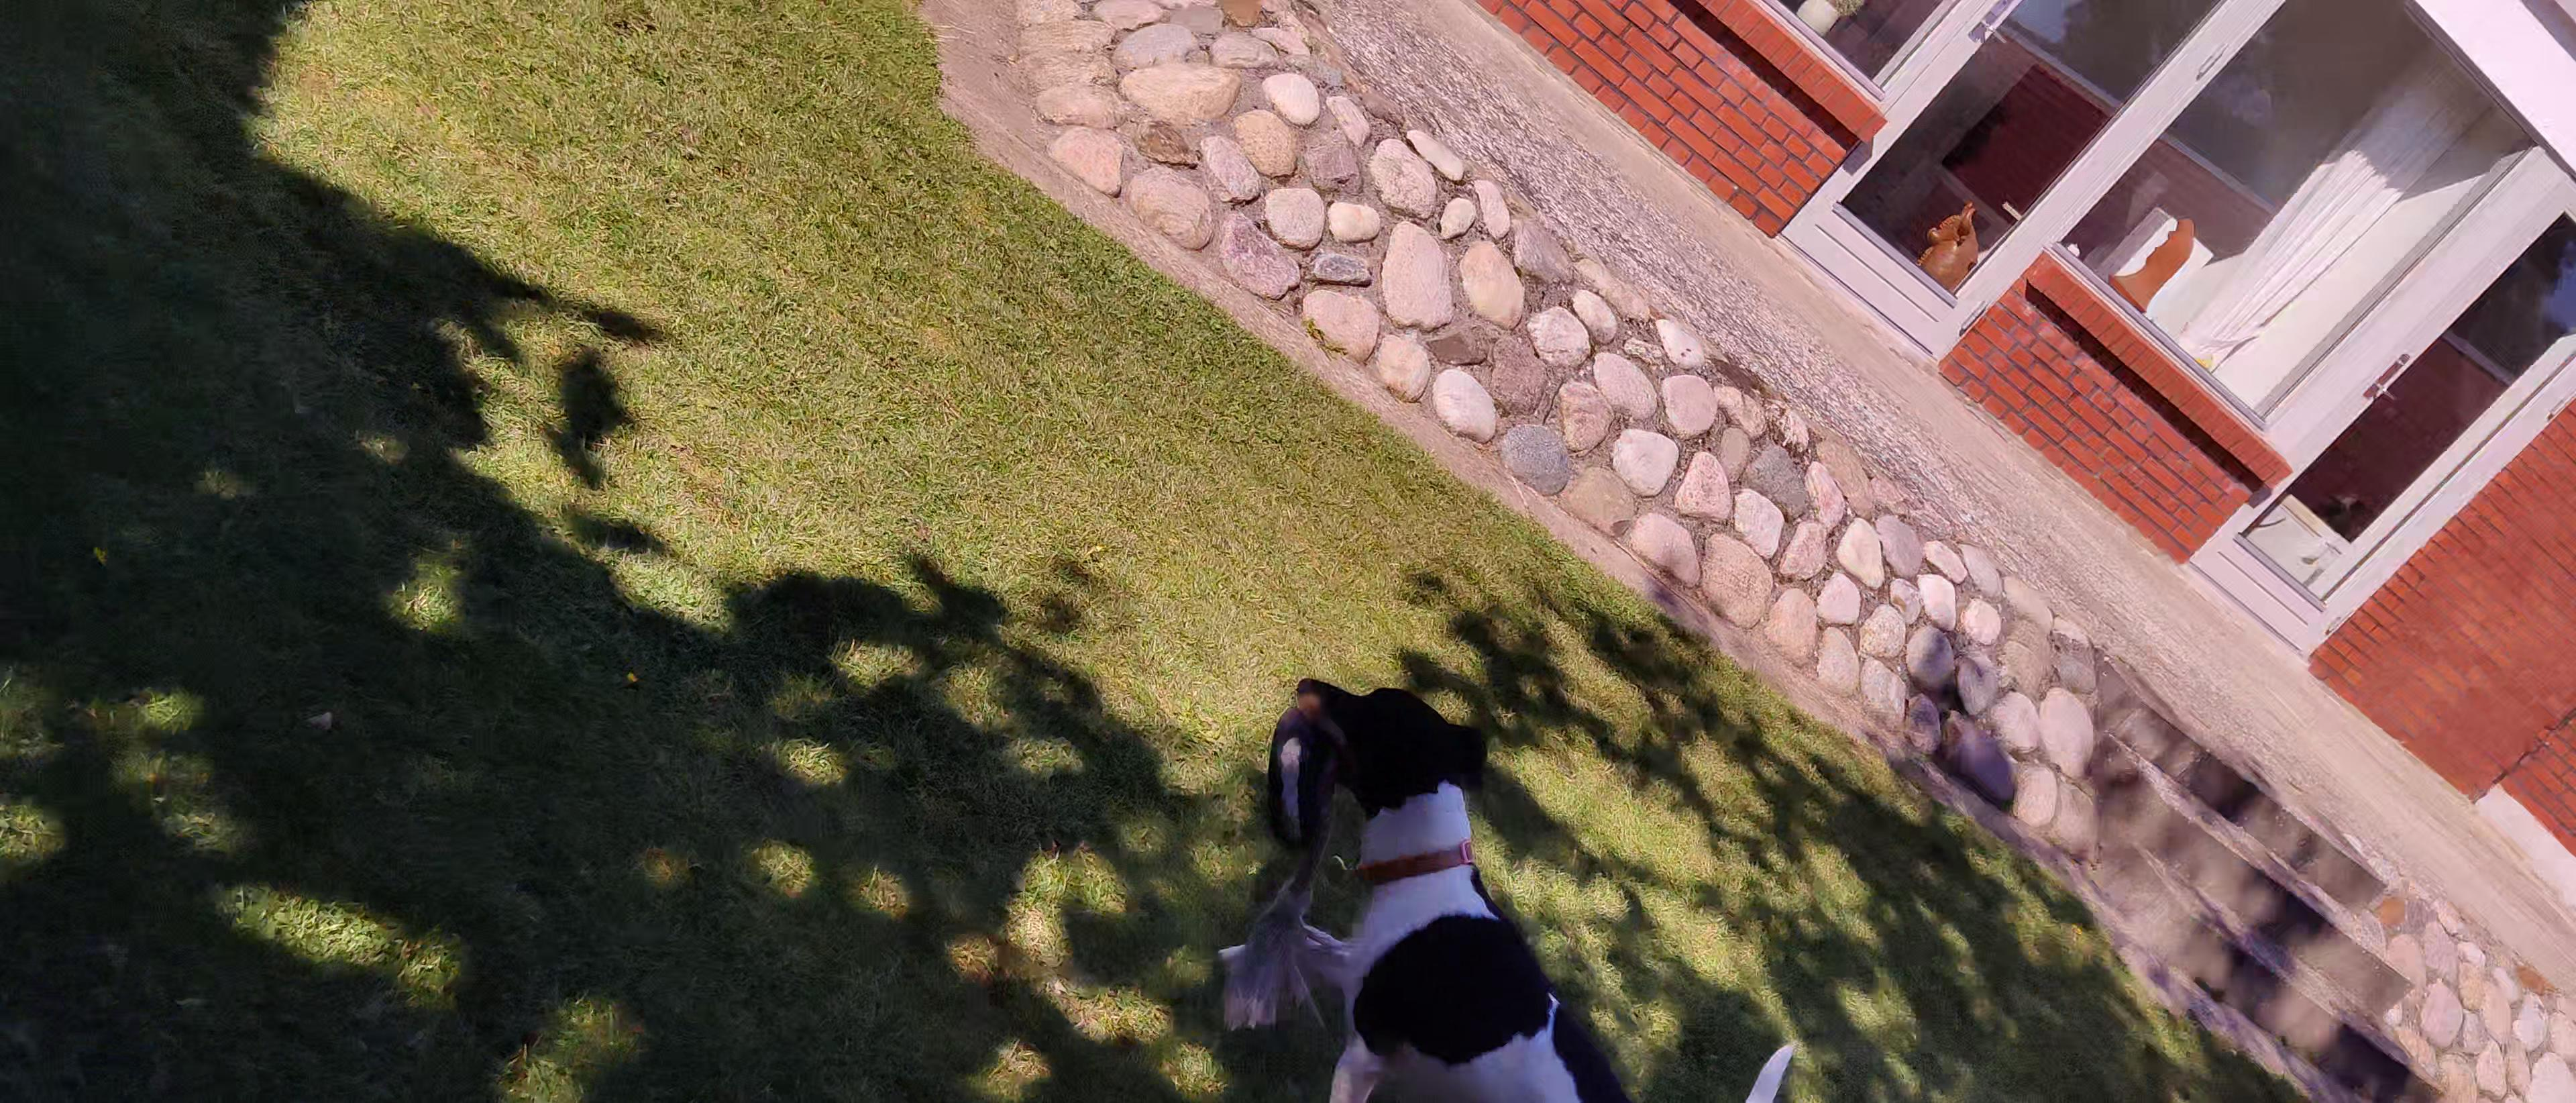Dog: (1198, 661, 1817, 1103)
